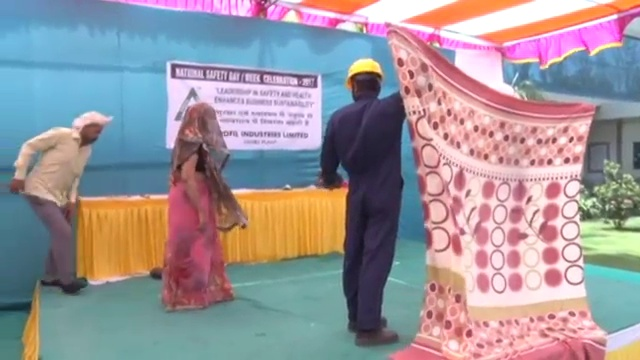helmet: (346, 57, 385, 88)
helmet_off: (75, 110, 111, 148), (185, 98, 217, 137)
helmet_on: (345, 57, 386, 100)
person: (318, 56, 405, 345), (13, 108, 115, 294), (162, 98, 247, 311)
